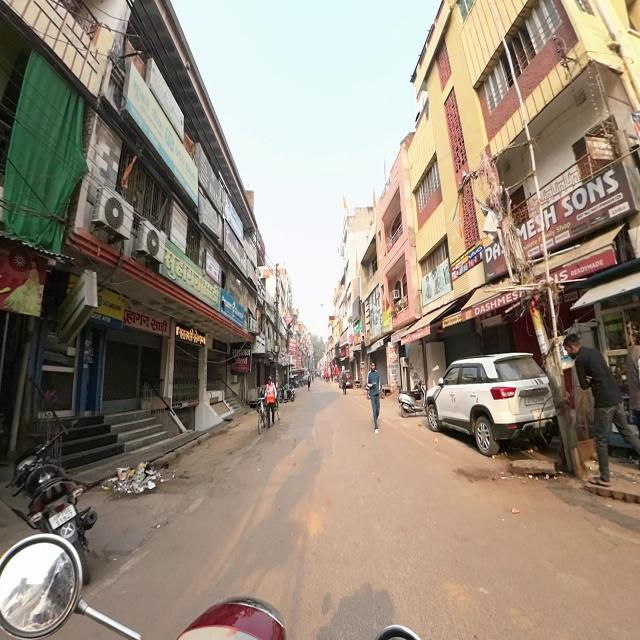Garbage: (112, 461, 154, 498)
